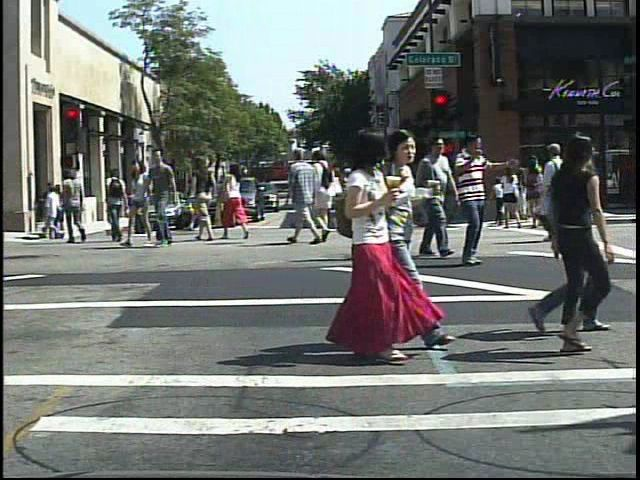person: (525, 129, 634, 365), (318, 125, 415, 370), (537, 133, 616, 338), (448, 127, 507, 273), (355, 134, 404, 265), (412, 136, 459, 261), (380, 127, 422, 258), (539, 133, 584, 249), (146, 147, 185, 253), (288, 142, 321, 244), (123, 159, 158, 252), (189, 152, 220, 249), (222, 154, 252, 244), (60, 166, 91, 245), (498, 161, 526, 231), (104, 165, 129, 243), (317, 148, 335, 246), (336, 161, 356, 230)
